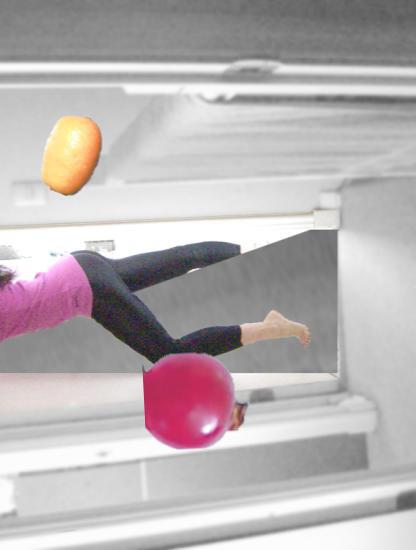Kumquats: (31, 114, 112, 195)
Redcurrant: (144, 348, 250, 454)
